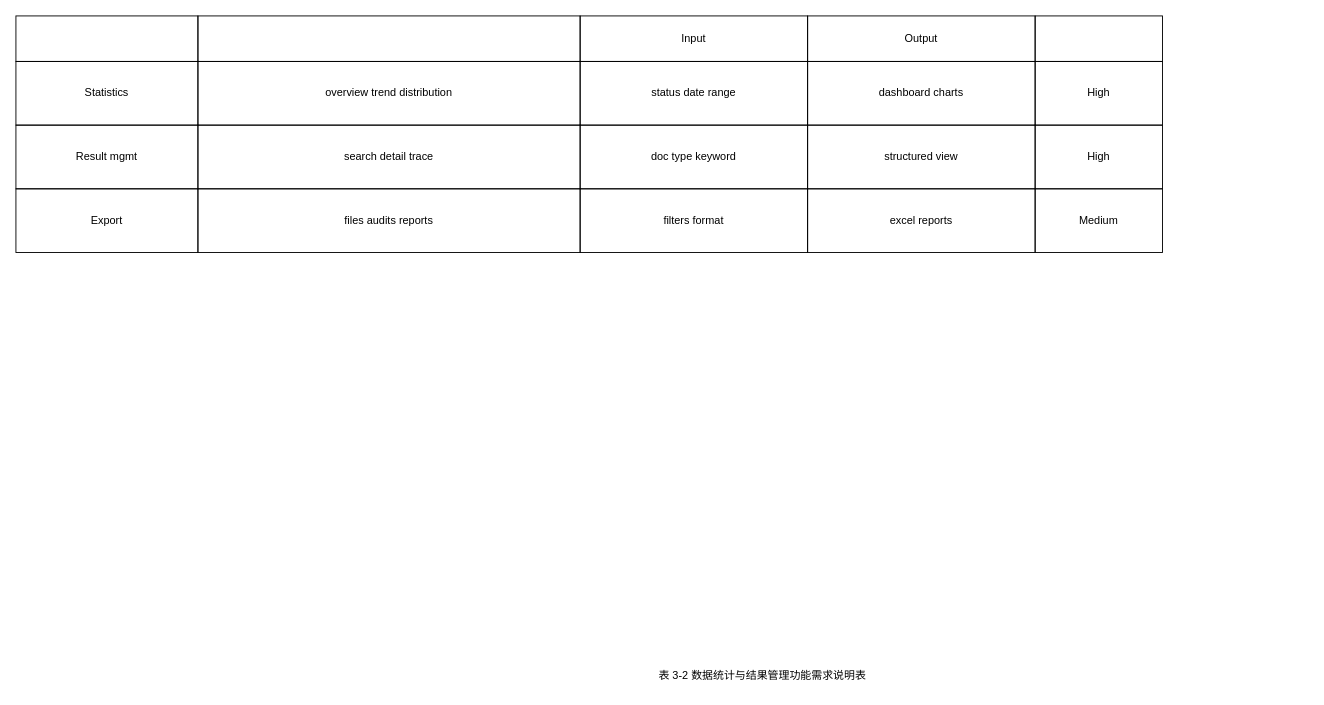
This 1324x705 diagram has some shape labels left out. Here are the shapes that lost their labels. From the top down, the centre of each, then its label:
At [106,38]: "Module".
At [388,38]: "Feature".
At [1098,38]: "Priority".
